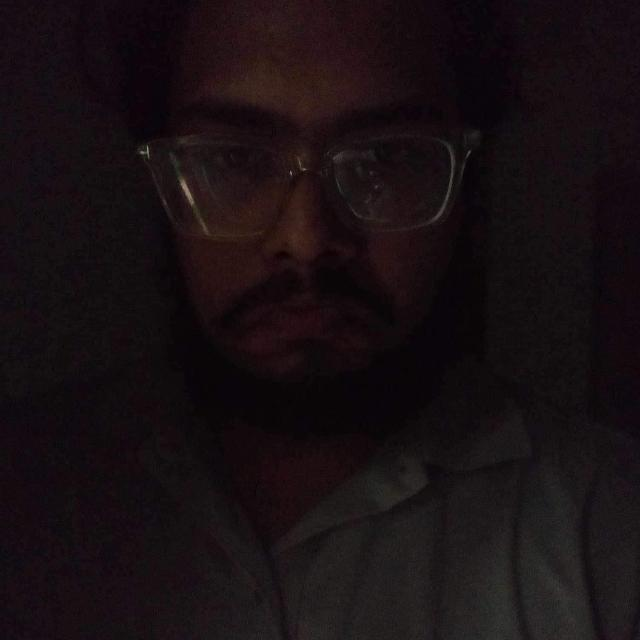Sad: (111, 50, 501, 468)
